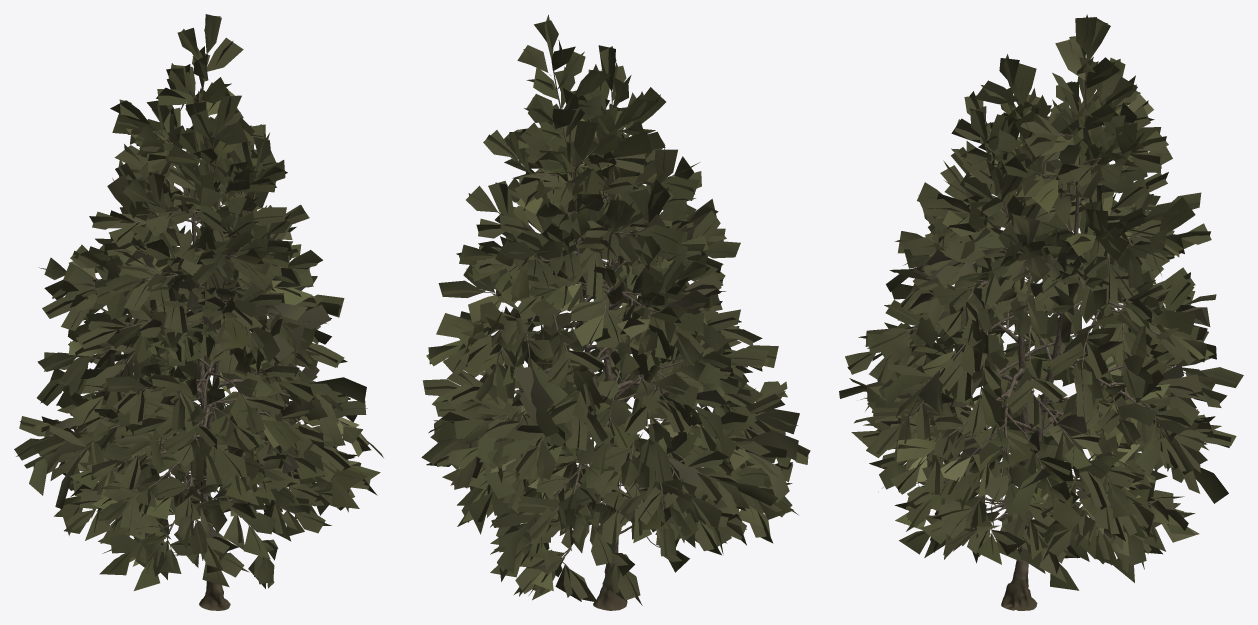
Rendered from SM_BlackAlder_Field_04_PP_LOD3.gltf.
3 views of the same model, side by side, from view 1: azimuth 30°, elevation 25°; view 2: azimuth 150°, elevation 25°; view 3: azimuth 270°, elevation 25° (orthographic). The views are drawn at different scales.
Parts seen in each view (by area): view 1: SM_BlackAlder_Field_04_PP; view 2: SM_BlackAlder_Field_04_PP; view 3: SM_BlackAlder_Field_04_PP.
Part boxes in pixels (x1=…): SM_BlackAlder_Field_04_PP: x1=14, y1=14, x2=383, y2=610; SM_BlackAlder_Field_04_PP: x1=421, y1=14, x2=810, y2=610; SM_BlackAlder_Field_04_PP: x1=839, y1=14, x2=1243, y2=610.
Size of the model in its own units: 6.82 by 11.48 by 6.98.
Materials: 4 (4 with a texture image).
